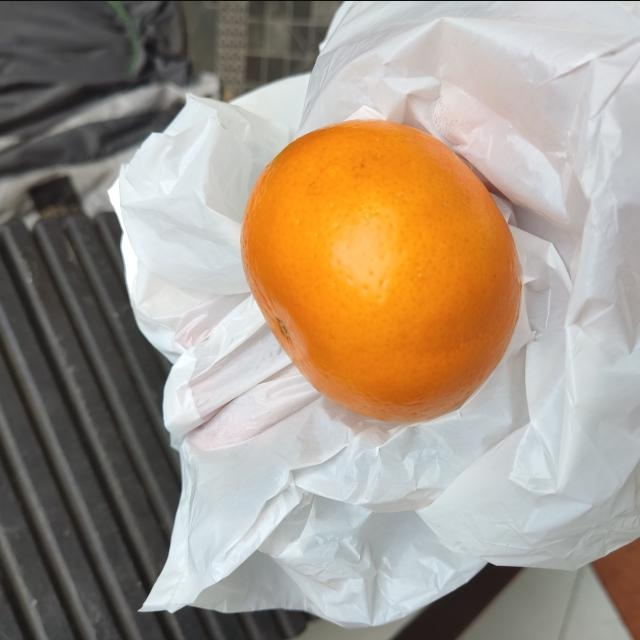agrume: (236, 116, 520, 424)
